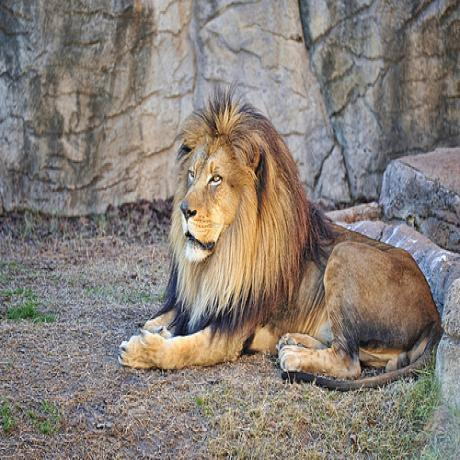Lion: (120, 82, 446, 391)
